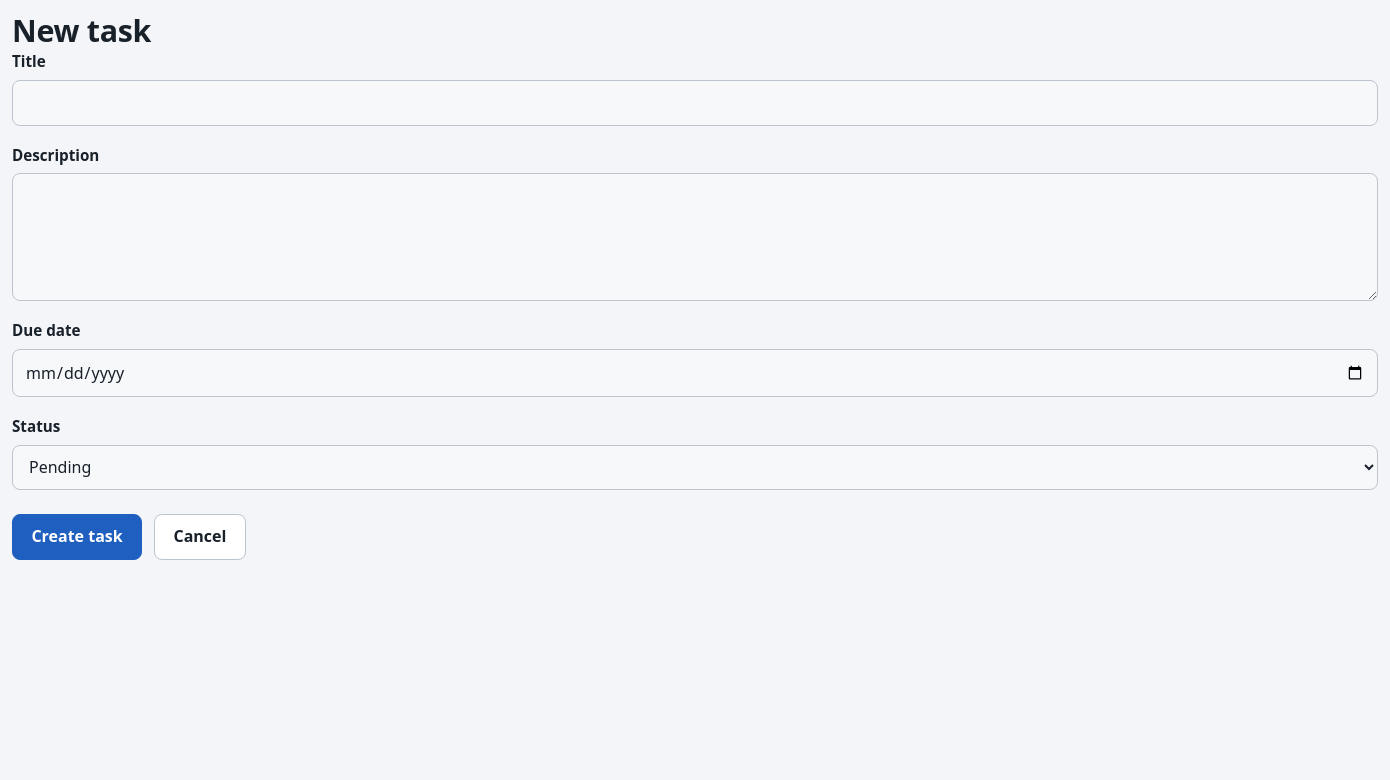
it: TaskForm in create mode › shows a required-title error and sends no request
Type "2026-11-20" into the date field labelled "Due date". click: (695, 373)
box: [12,349,1378,397]
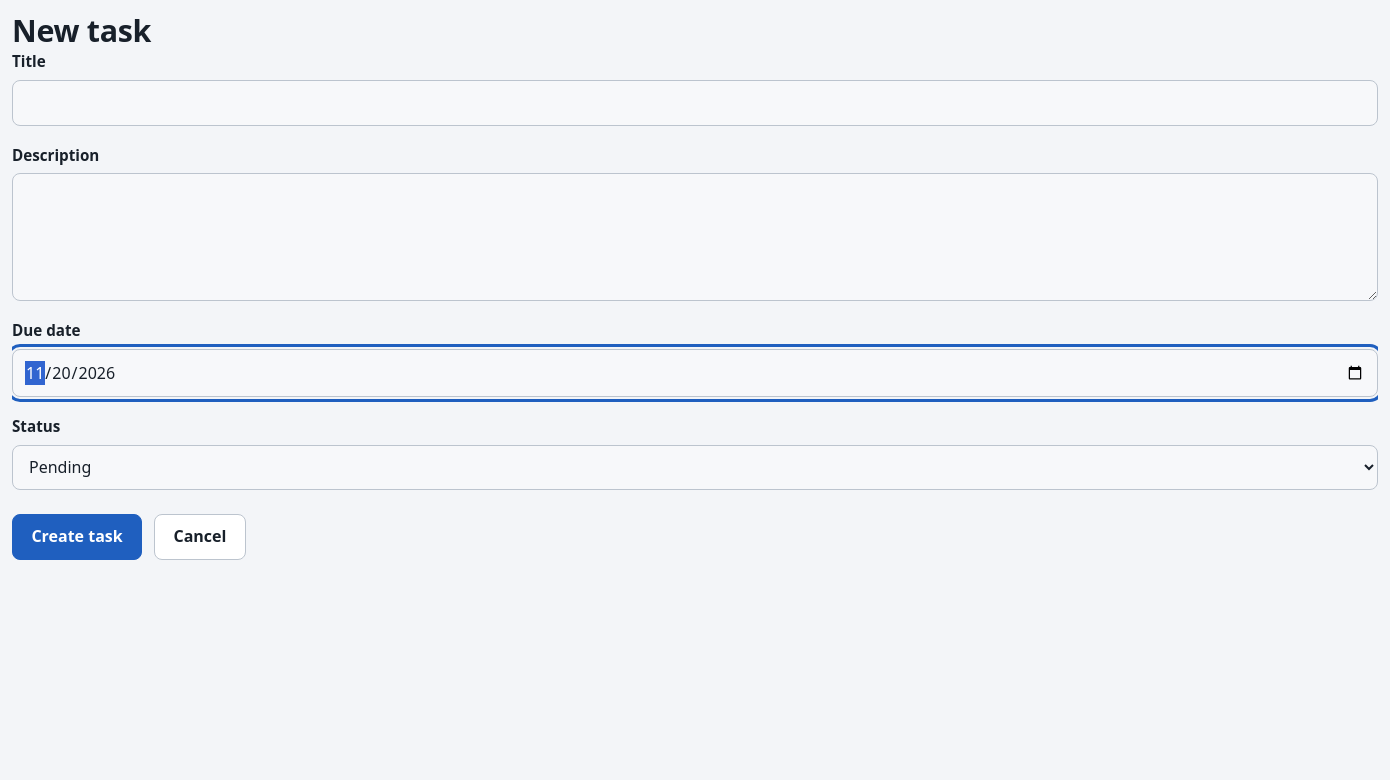
Click the button "Create task". click: (77, 537)
box: [12,514,142,560]
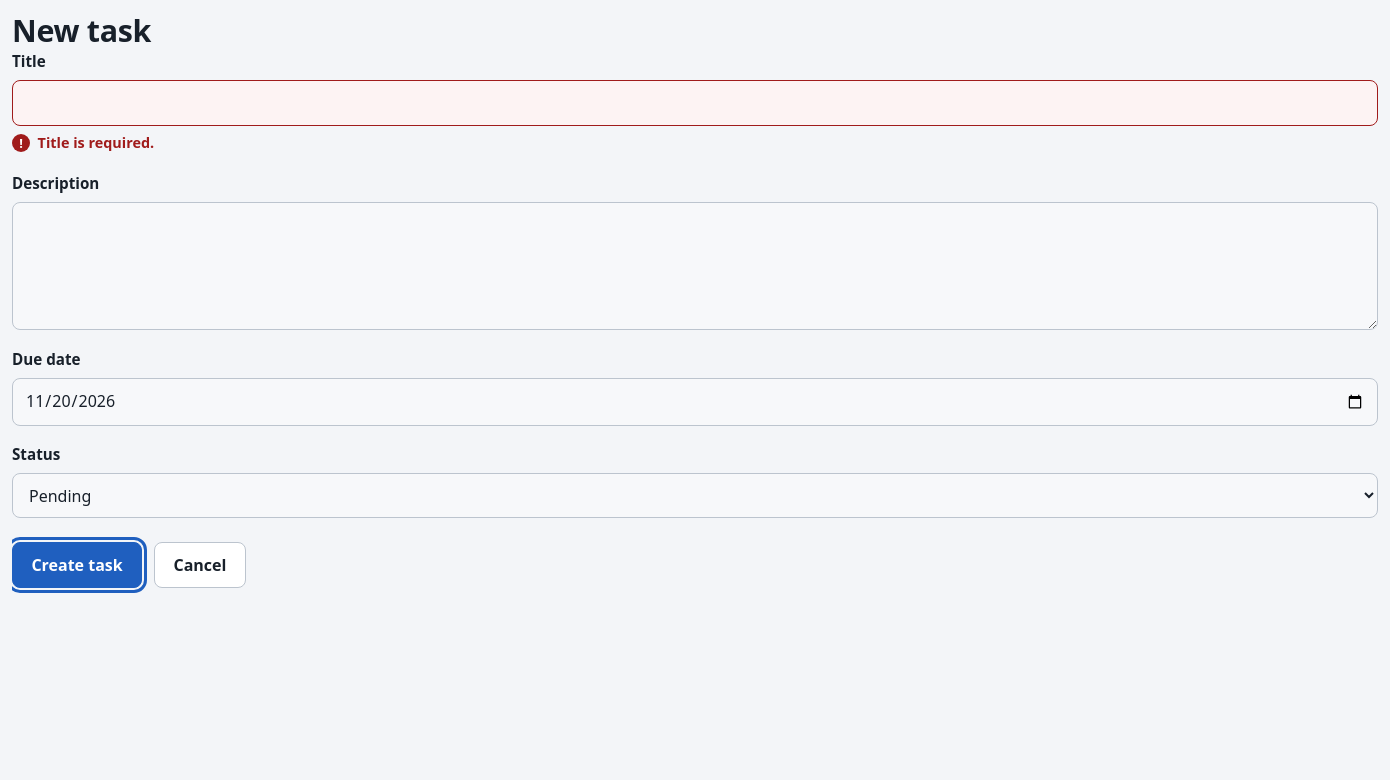
Check: the text "Title is required." is shown, box [38,133,154,152]
